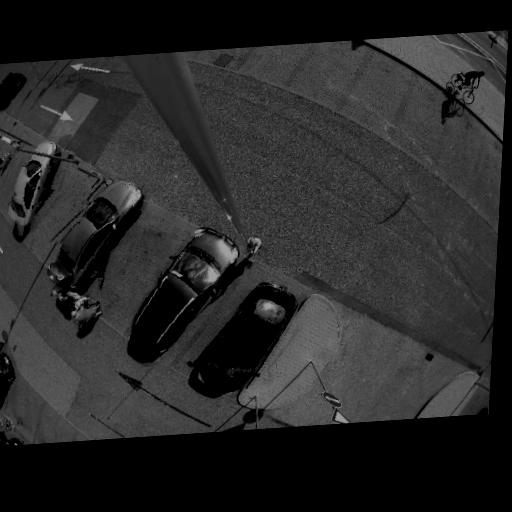busy: (129, 227, 247, 373), (53, 173, 154, 303), (196, 278, 303, 393), (4, 137, 87, 234), (0, 341, 21, 426), (0, 72, 28, 105)
free: (93, 238, 164, 303), (30, 187, 86, 247), (357, 76, 404, 117), (249, 47, 297, 82), (306, 55, 350, 91), (444, 132, 480, 167), (0, 157, 29, 200), (5, 404, 45, 432), (409, 111, 442, 143), (481, 171, 501, 202)
